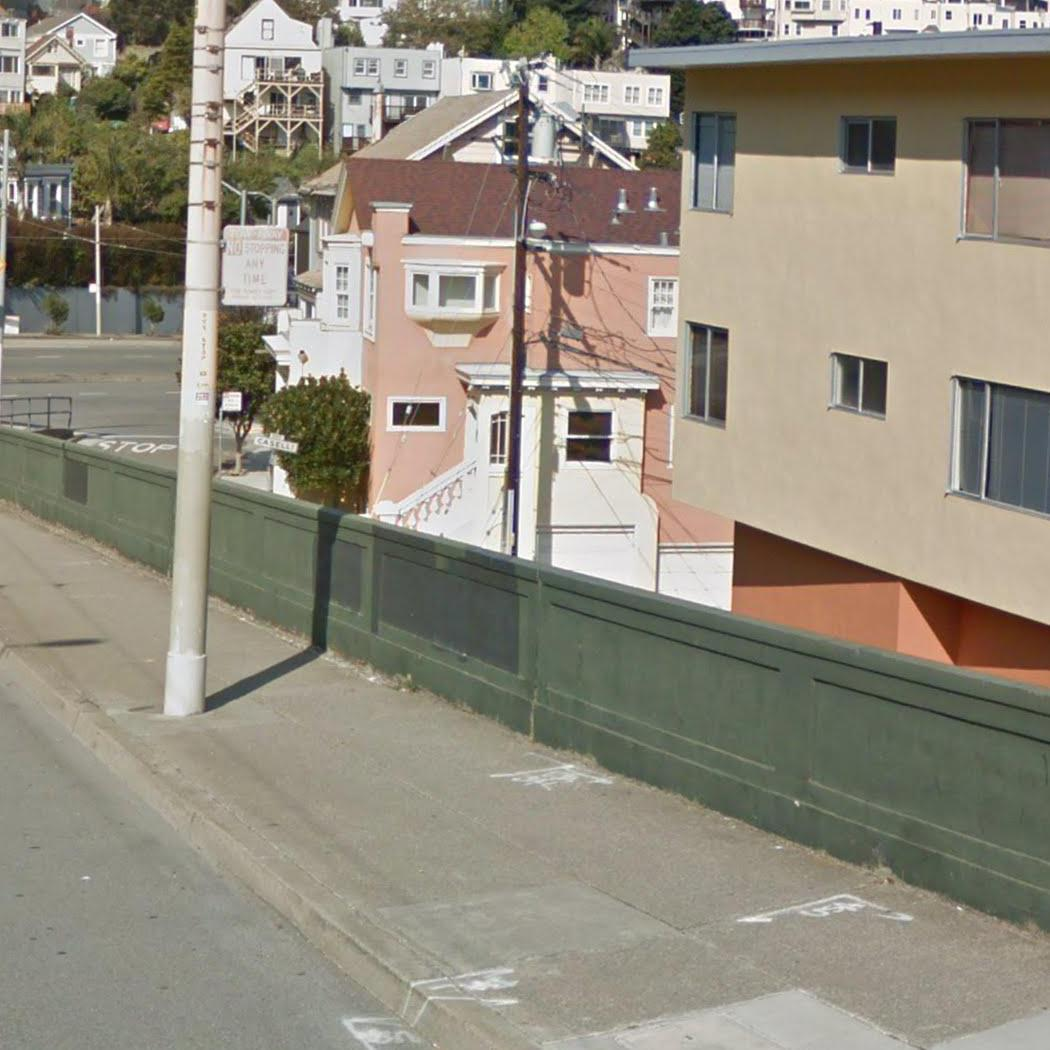No Parking: (219, 223, 292, 309)
